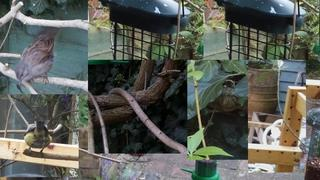blue tit: (24, 121, 52, 158)
dunnock: (14, 27, 61, 86)
